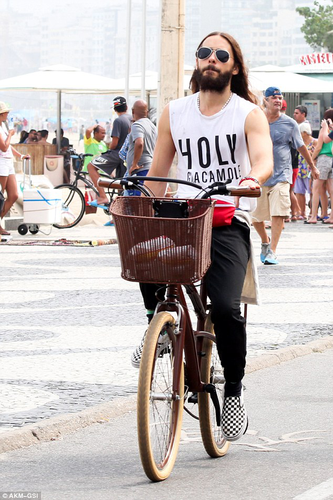bikerider: (102, 26, 293, 482)
